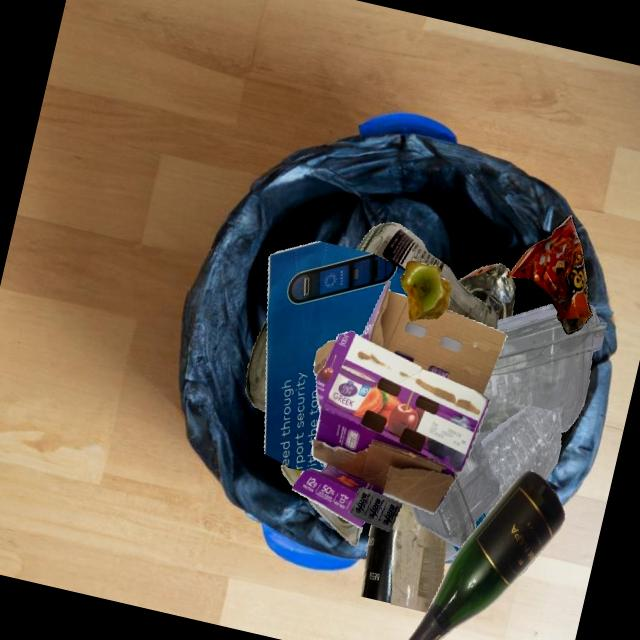biowaste: (400, 259, 450, 321)
cardboard: (291, 280, 506, 528)
glass: (407, 470, 565, 640), (356, 222, 496, 329), (360, 494, 446, 612), (307, 498, 361, 545), (245, 319, 267, 411), (281, 463, 302, 486)
metal: (457, 263, 515, 320)
paper: (264, 241, 407, 471)
plastic: (477, 303, 607, 442), (475, 405, 561, 528), (411, 434, 499, 547), (349, 487, 402, 531)
trash: (507, 215, 592, 334)
